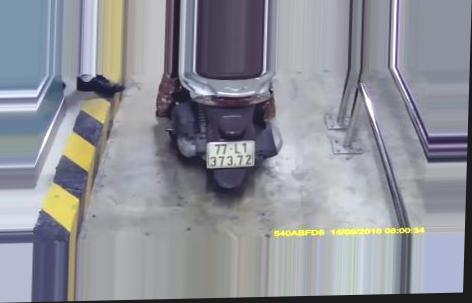License_Plate: (200, 136, 260, 173)
